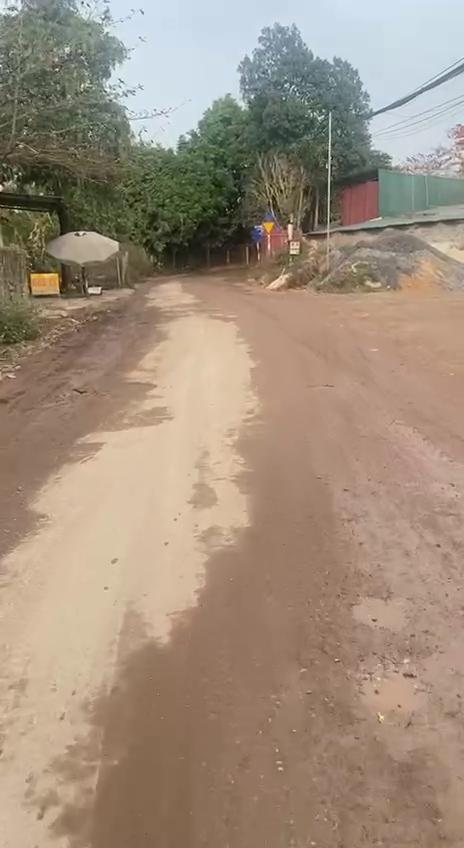pothole: (330, 572, 432, 733)
